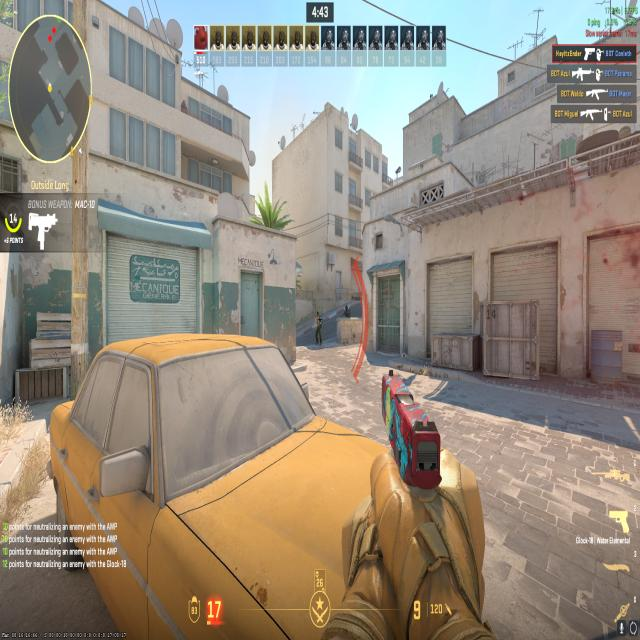ct: (342, 300, 352, 320)
t: (313, 308, 323, 347)
